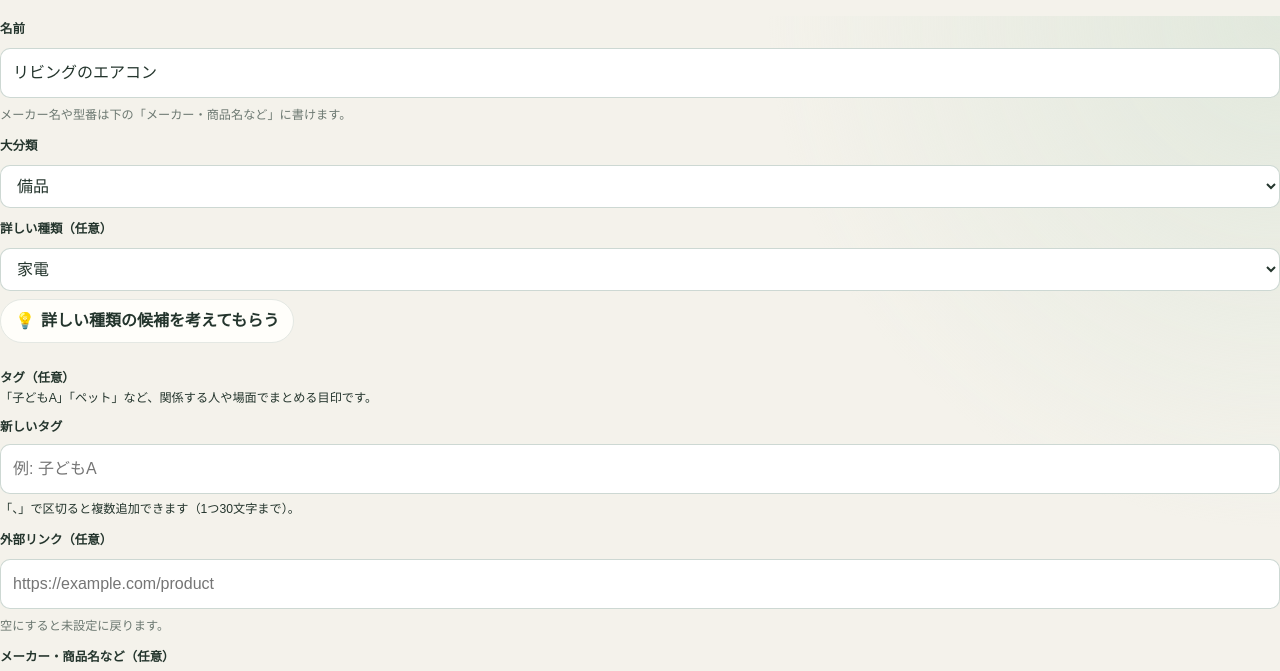
Test case: ManagedItemの任意の記録(Issue #42) › 編集画面で大分類を変更すると見出し語は切り替わるが、入力済みの値は保たれる
Select "サービス・契約" in the dropdown labelled "大分類" at (640,186), box 0,165 -> 1279,208
(page scrolled)
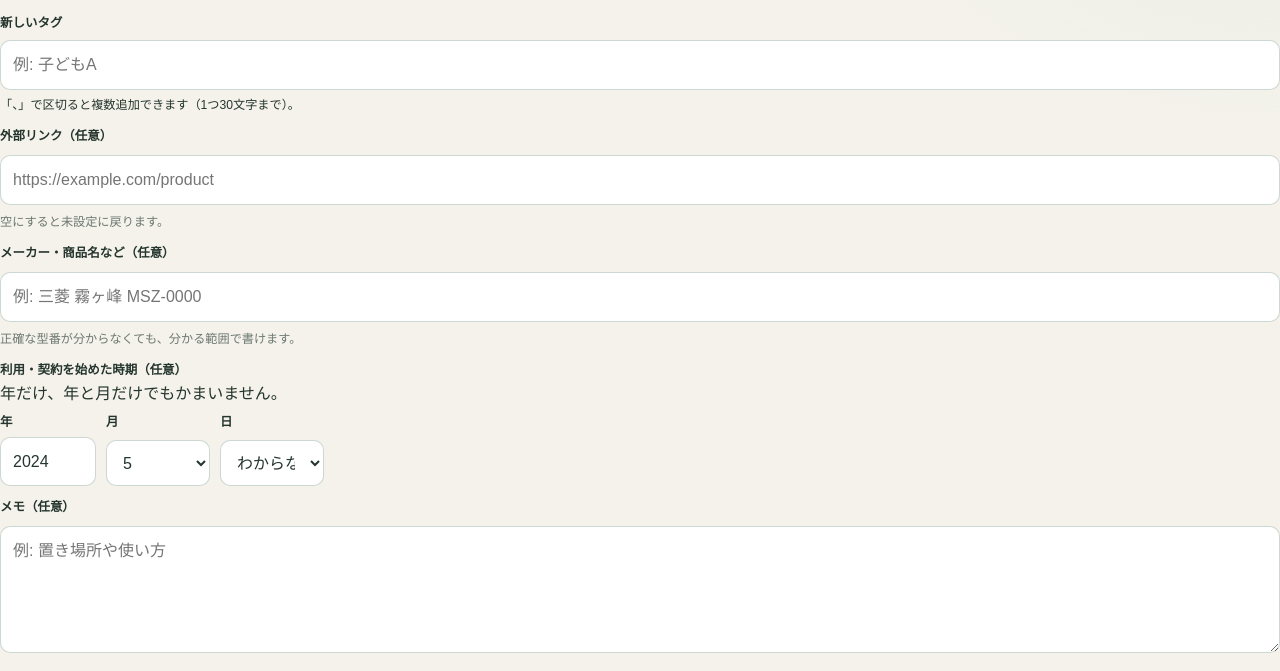
Expected: the field labelled "年" holds "2024", 0,437 -> 96,486
Expected: the element "利用・契約を始めた時期（任意）" is shown, 0,363 -> 324,486
